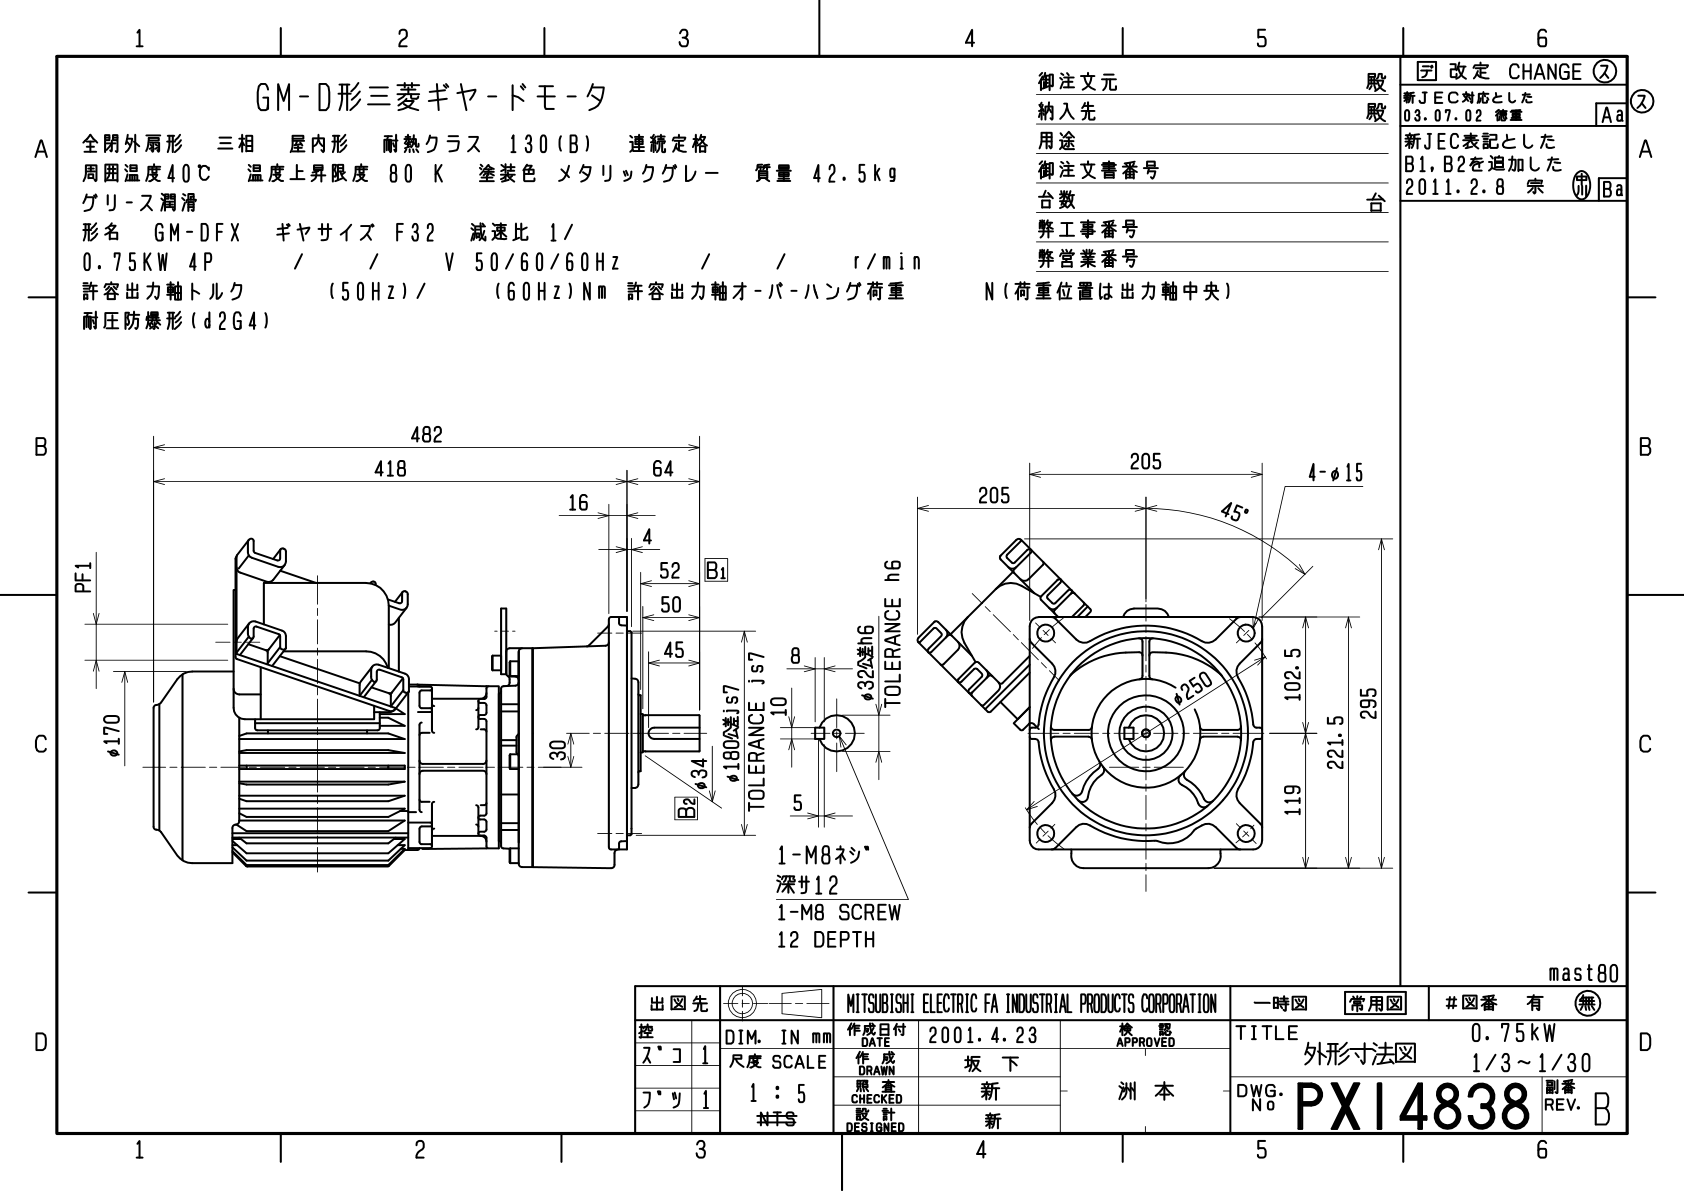GM_SP_屋内＿三相_フランジ: (67, 391, 1392, 956)
